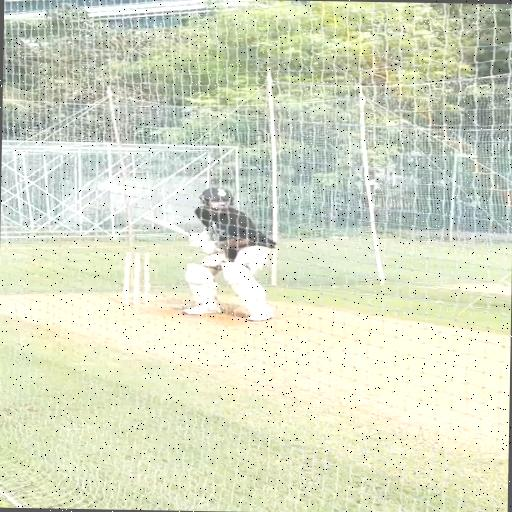Cricket bat: (145, 217, 192, 238)
